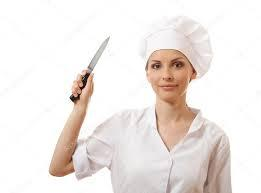Knife: (69, 35, 110, 101)
